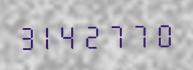four: (61, 20, 82, 50)
one: (39, 20, 60, 50)
seven: (105, 19, 126, 49), (127, 19, 148, 49)
three: (17, 21, 38, 51)
two: (83, 20, 104, 49)
zero: (149, 19, 170, 48)
